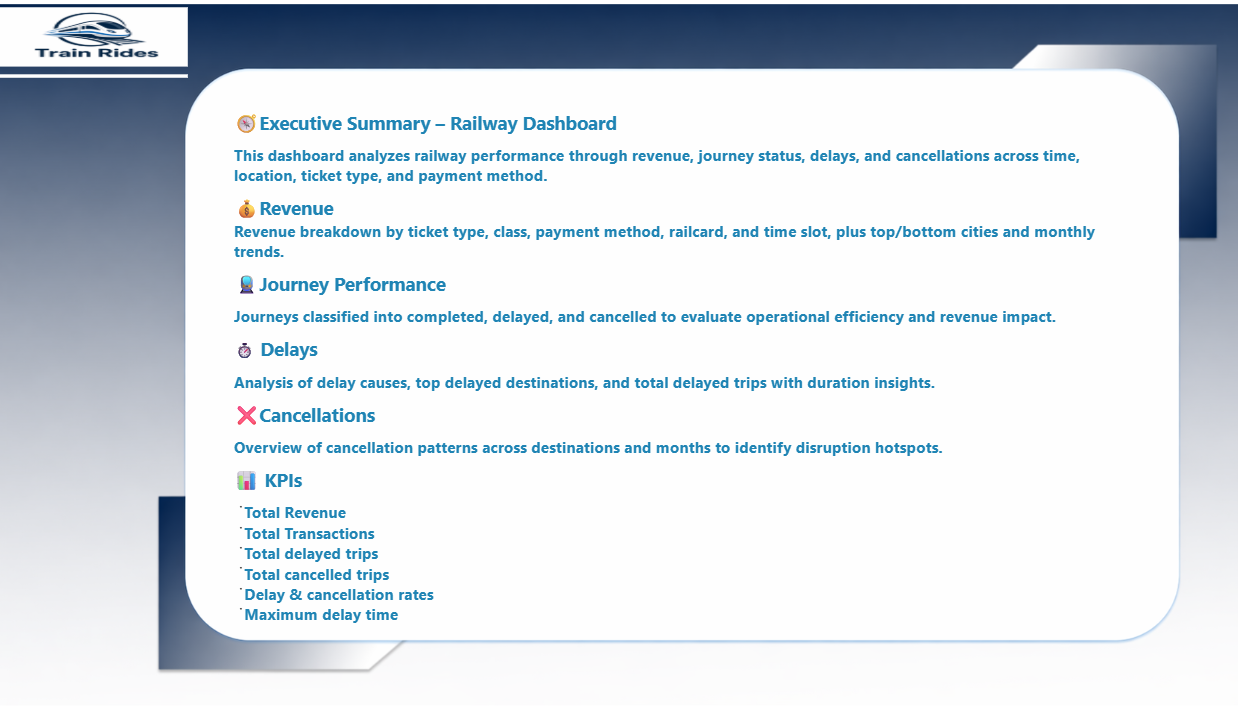

The page's visual inventory and layout, read from the dashboard file:
{"tool":"powerbi","page":{"name":"Home page","canvas":[2150,1270],"ordinal":0},"visuals":[{"type":"image","box":[0,21.5,2150,1247.4],"z":0},{"type":"shape","box":[3,125.2,328.9,77.8],"z":12000},{"type":"image","box":[3,45.2,328.9,102.2],"z":13000},{"type":"textbox","box":[405.5,163.9,1568.1,966.3],"z":13001}]}

Visuals, with their boxes in screenshot pixels (x1, y1, x2, y2), scaled from the page's 2150x1270 canvas onto the 1238x715 screenshot:
image: 0 12 1237 714
shape: 2 70 191 114
image: 2 25 191 83
textbox: 233 92 1136 636
